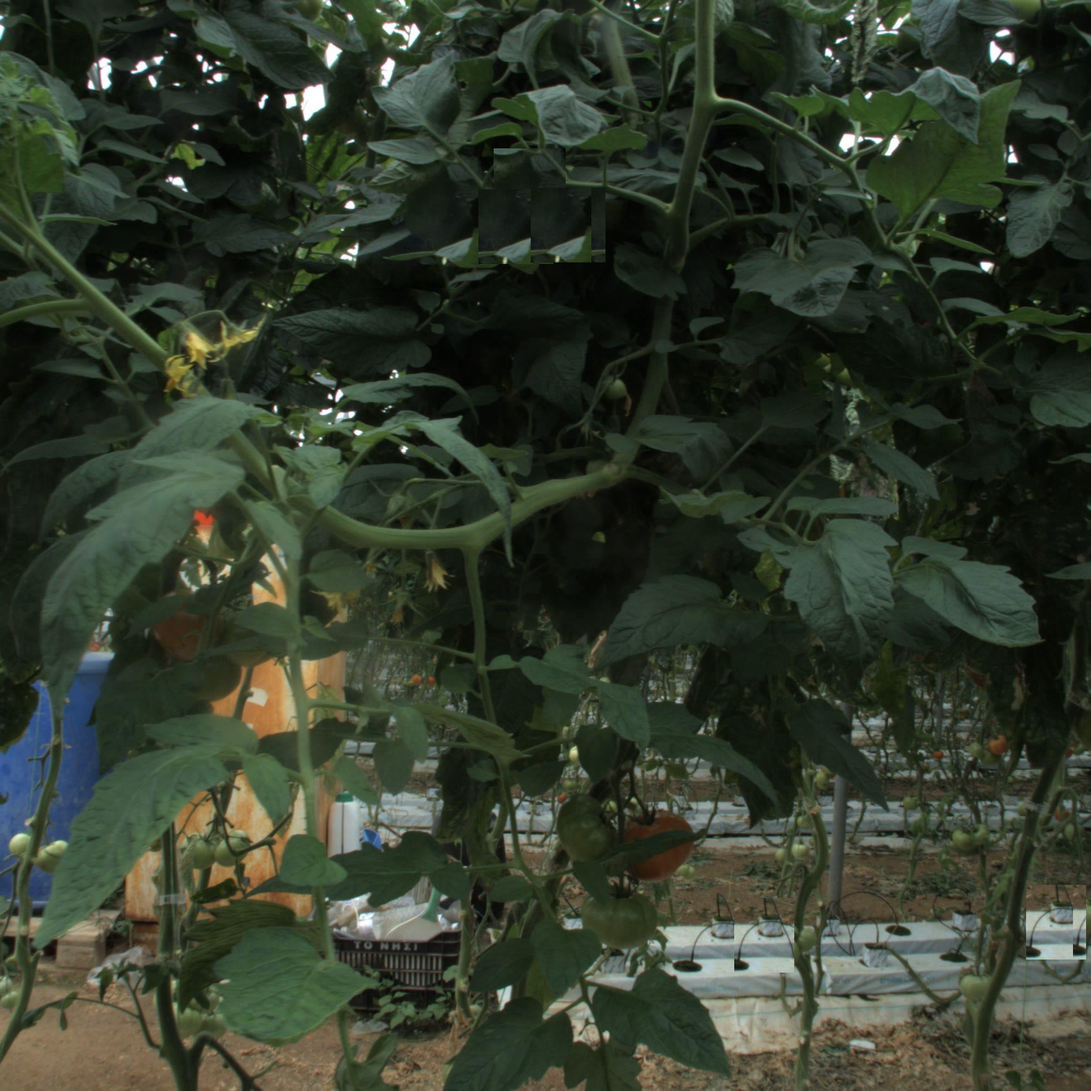fully-ripe: (619, 805, 693, 879)
unripe: (583, 874, 657, 949), (558, 796, 624, 861)
